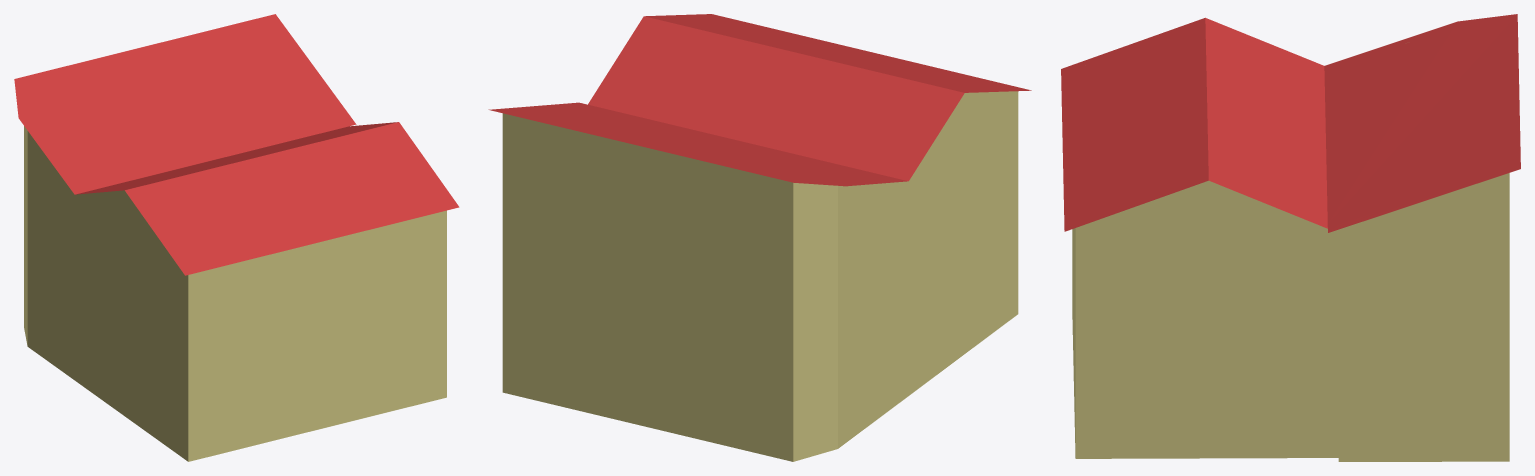
3 renders of one model, left to right at view 1: azimuth 30°, elevation 25°; view 2: azimuth 150°, elevation 25°; view 3: azimuth 270°, elevation 25°, orthographic. The views are drawn at different scales.
Bounding box in the file's own units: 8.96 × 10.38 × 7.4.
